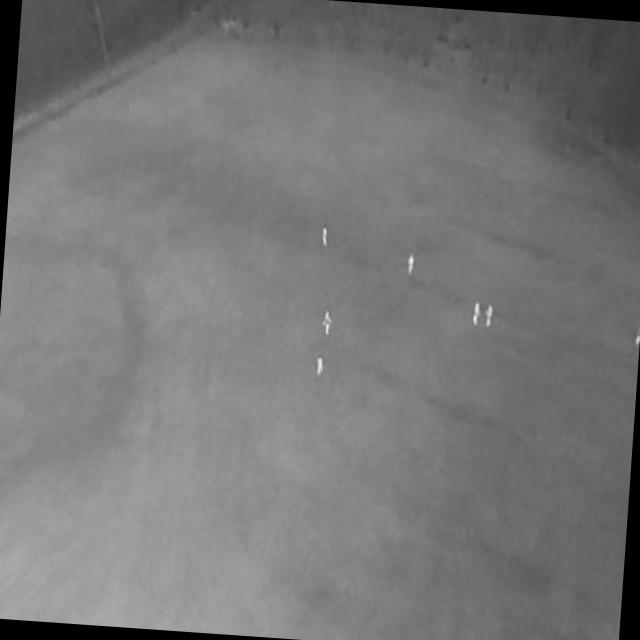person: (322, 310, 334, 337), (483, 304, 494, 330), (314, 355, 326, 378), (471, 303, 481, 329), (406, 255, 415, 276), (633, 323, 640, 349), (321, 227, 328, 248)
